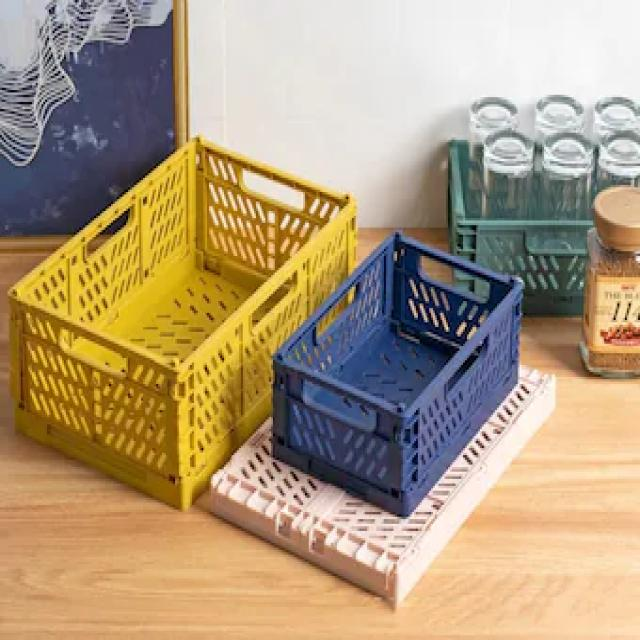basket: (0, 71, 385, 537), (195, 249, 572, 640), (225, 192, 569, 547), (437, 140, 599, 321)
